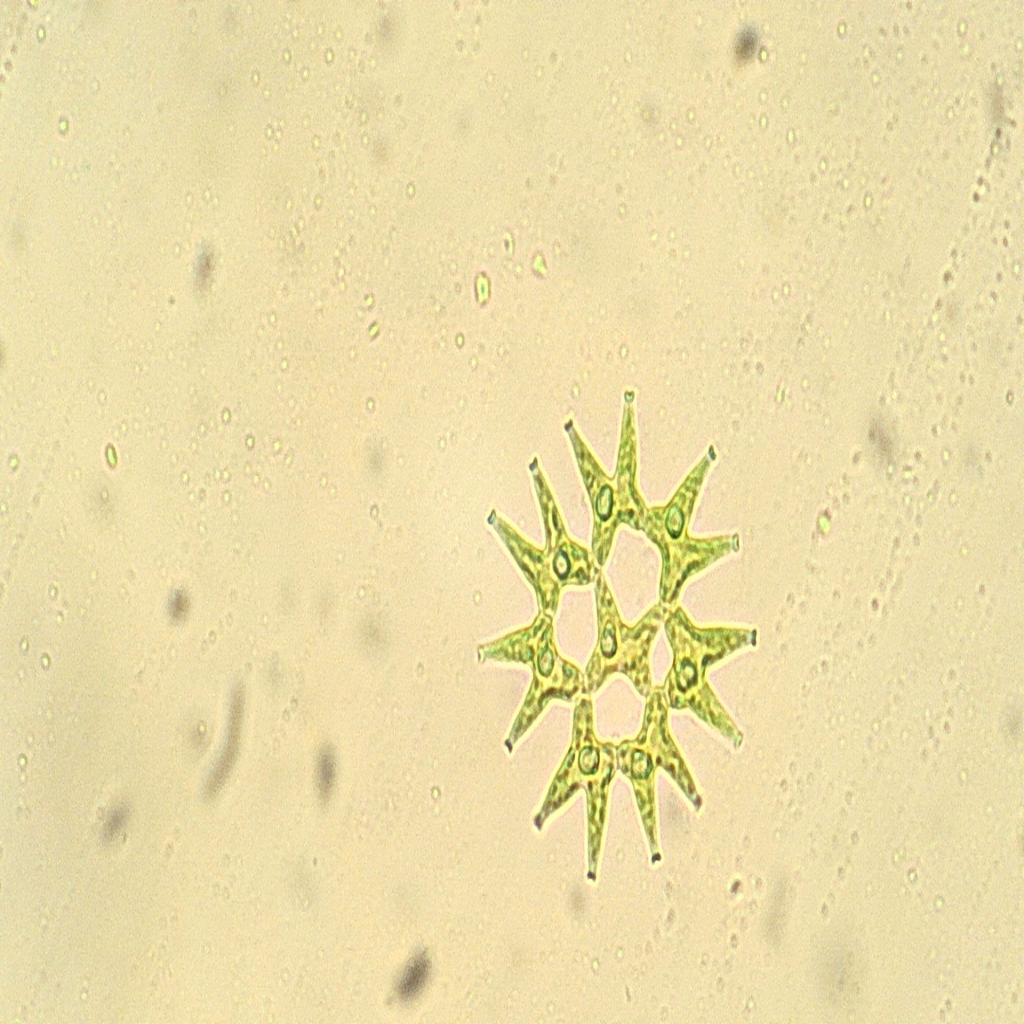Pediastrum_CTH: (474, 362, 761, 902)
